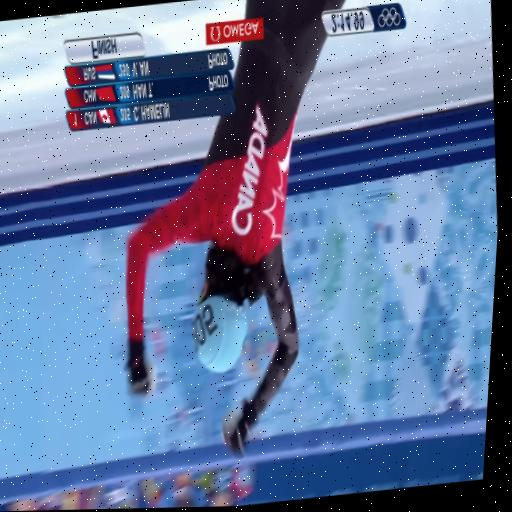Skater: (127, 0, 345, 454)
